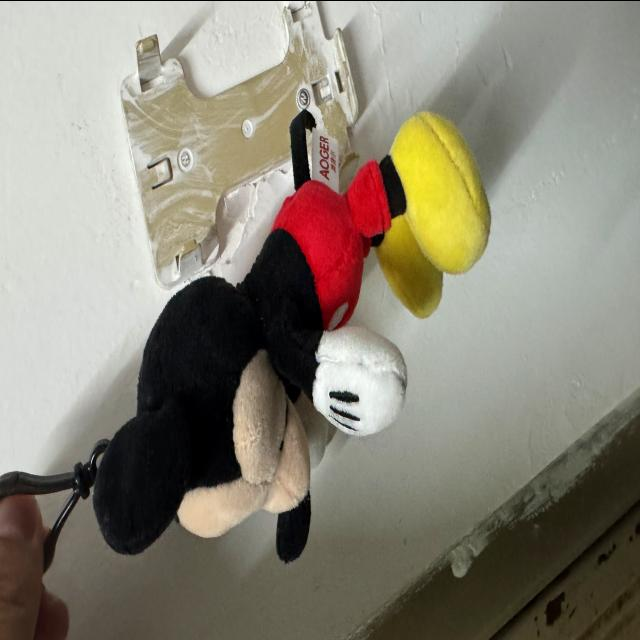mickey: (94, 111, 489, 560)
